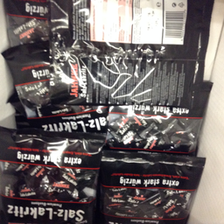candy: (50, 1, 201, 109), (3, 133, 98, 218), (102, 149, 198, 224)
